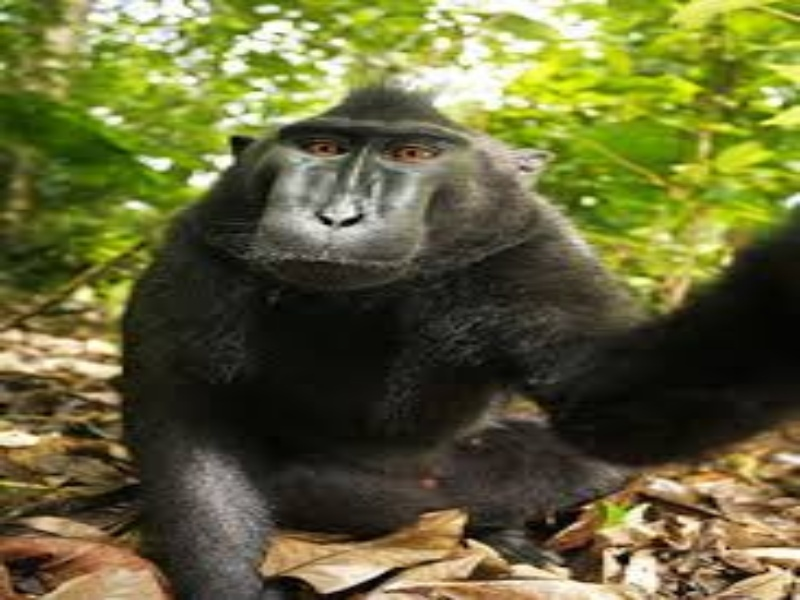monkey: (116, 70, 800, 592)
